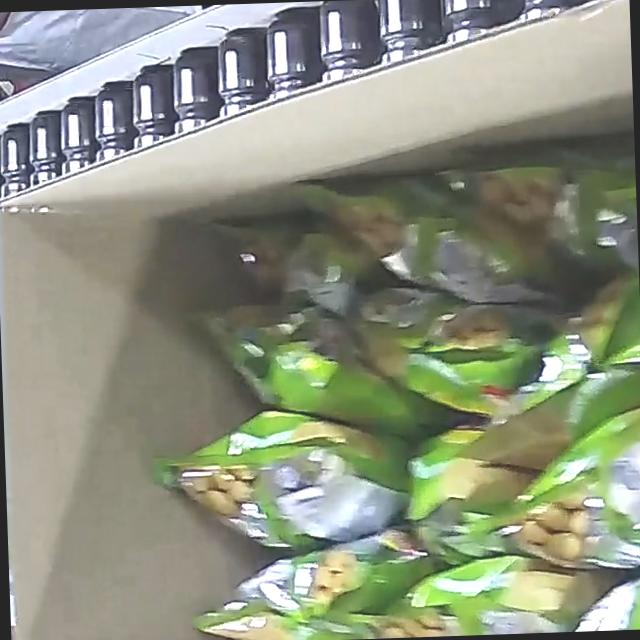yogurt: (137, 129, 640, 640)
